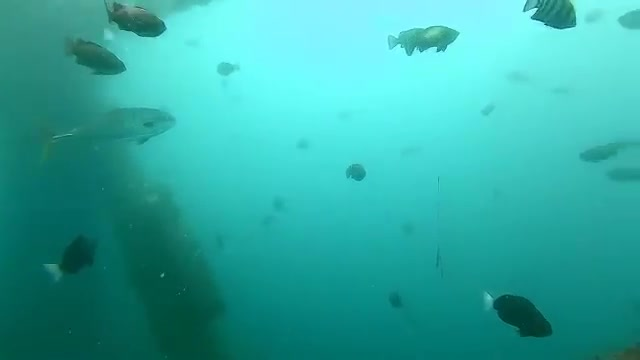hamati: (27, 101, 186, 163)
smallfish: (476, 283, 563, 344), (62, 33, 146, 94), (44, 227, 104, 284), (385, 20, 473, 57), (106, 2, 167, 42), (523, 1, 584, 33), (342, 163, 371, 188)
